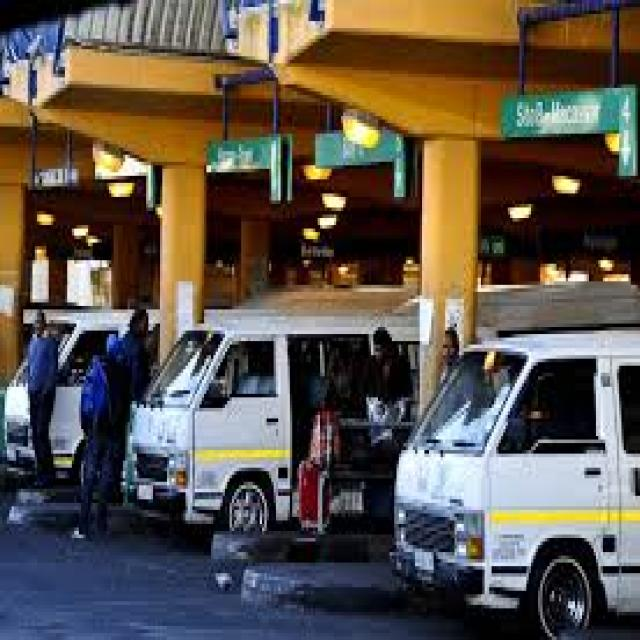MiniBus taxi: (382, 320, 640, 626), (116, 313, 406, 542), (4, 299, 128, 485)
